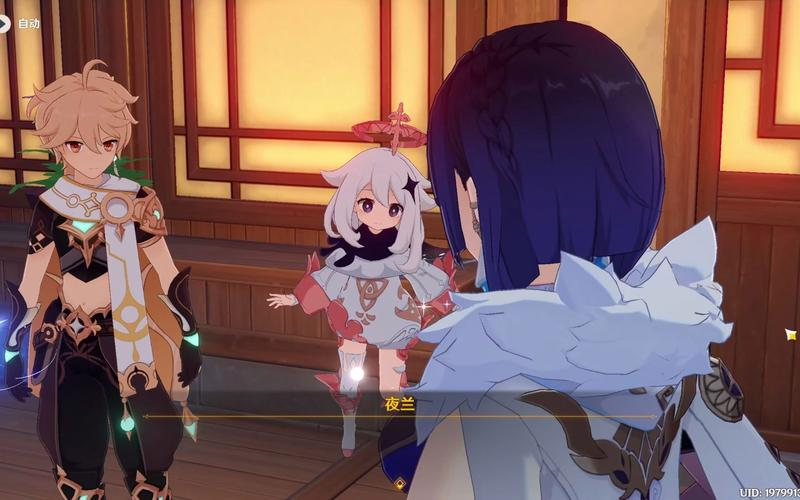夜兰: (371, 23, 778, 500)
